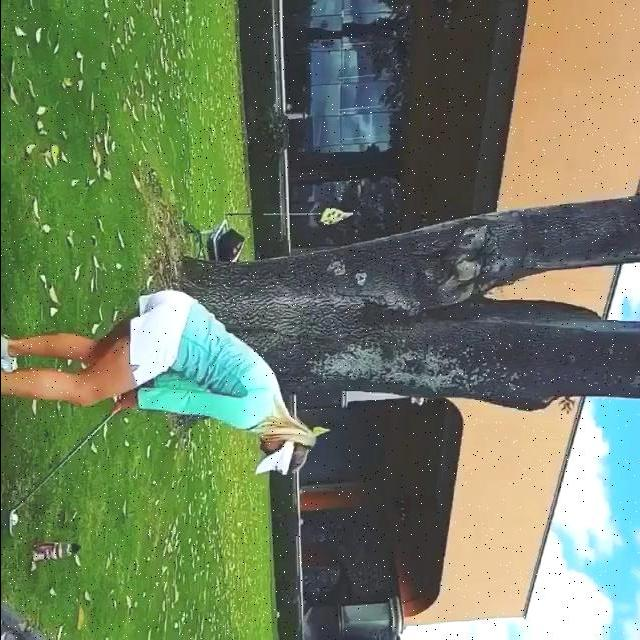ClubHandle: (5, 395, 136, 540)
ClubHead: (5, 513, 13, 538)
GolfBall: (11, 512, 20, 524)
